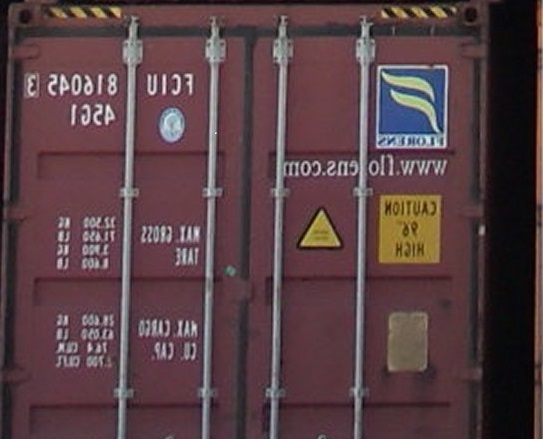container_door: (3, 2, 487, 436)
